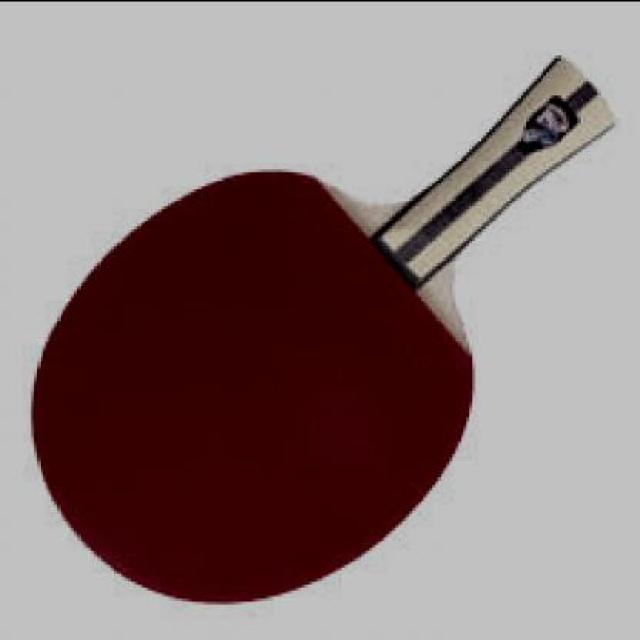table_tennis_racket: (32, 164, 486, 599)
